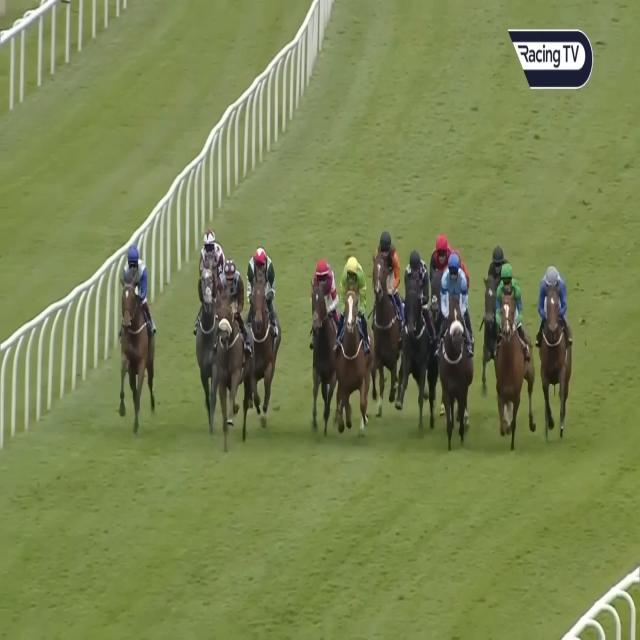horses-racing: (536, 259, 573, 451), (439, 254, 473, 432), (212, 257, 247, 427), (121, 243, 154, 416), (370, 223, 400, 400), (303, 255, 335, 418), (336, 254, 366, 427), (194, 230, 223, 397), (249, 241, 277, 412), (498, 269, 525, 446), (482, 243, 516, 363), (402, 246, 424, 414), (427, 228, 453, 324)
